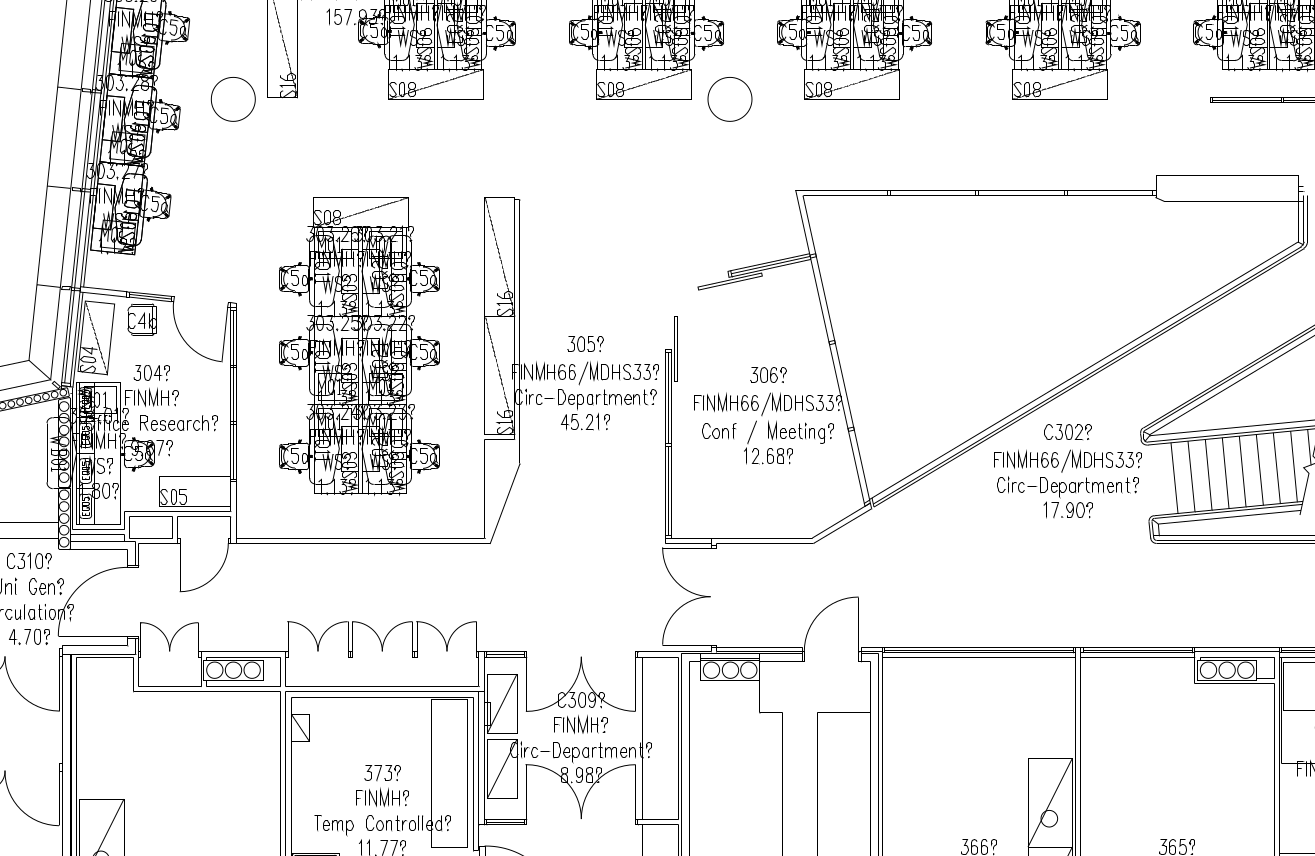door: (54, 561, 127, 643), (164, 289, 228, 373), (519, 647, 583, 715), (521, 758, 585, 826), (800, 592, 864, 660), (5, 648, 62, 721), (3, 756, 60, 829), (647, 545, 719, 597), (648, 596, 720, 648), (176, 536, 230, 597), (413, 614, 448, 662), (382, 614, 417, 661), (285, 615, 319, 662), (317, 615, 351, 662), (349, 615, 383, 662), (444, 617, 478, 664)
